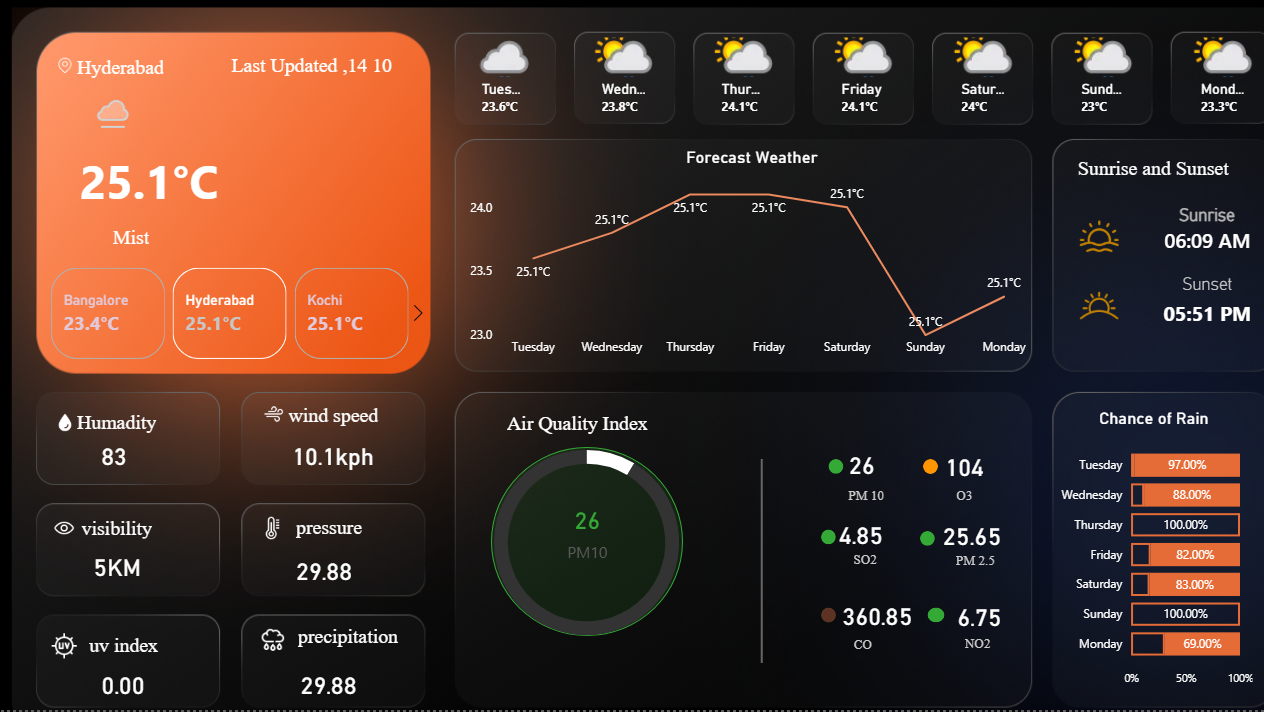

What the dashboard file says about the page in this screenshot:
{"tool":"powerbi","page":{"name":"Page 1","canvas":[1280,720],"ordinal":0},"visuals":[{"type":"shape","box":[496.7,454.3,193.8,190.8],"z":0},{"type":"donutChart","fields":{"Y":["Sum(Current.current.air_quality.pm10)","Measure.left_value_pm10"]},"box":[442.1,428.5,301.3,243.8],"z":1000},{"type":"advancedSlicerVisual","fields":{"Values":["Current.location.name"]},"box":[27.3,268,411.9,103],"z":2000},{"type":"shape","box":[40.9,151.4,221.1,65.1],"z":3000},{"type":"shape","box":[40.9,45.4,163.5,51.5],"z":4000},{"type":"shape","box":[51.5,231.7,163.5,21.2],"z":5000},{"type":"image","box":[40.9,56,51.5,25.7],"z":6000},{"type":"shape","box":[233.2,56,163.5,25.7],"z":7000},{"type":"cardVisual","fields":{"Data":["Min(Current.current.condition.icon)"]},"box":[30.3,69.7,124.2,90.9],"z":8000},{"type":"image","box":[45.4,519.4,40.9,33.3],"z":9000},{"type":"shape","box":[83.3,525.4,77.2,21.2],"z":10000},{"type":"image","box":[50,414.9,33.3,28.8],"z":11000},{"type":"shape","box":[78.7,414.9,87.8,28.8],"z":12000},{"type":"image","box":[262,401.3,30.3,39.4],"z":13000},{"type":"shape","box":[292.2,401.3,122.7,42.4],"z":14000},{"type":"shape","box":[292.2,511.8,74.2,48.5],"z":15000},{"type":"image","box":[249.8,519.4,53,33.3],"z":16000},{"type":"shape","box":[277.1,622.3,125.7,45.4],"z":17000},{"type":"shape","box":[78.7,622.3,81.8,63.6],"z":18000},{"type":"image","box":[249.8,629.9,53,37.9],"z":19000},{"type":"image","box":[34.8,636,62.1,37.9],"z":20000},{"type":"card","fields":{"Values":["Sum(Current.current.humidity)"]},"box":[40.9,387.6,149.9,149.9],"z":21000},{"type":"card","fields":{"Values":["Measure.wind_speed"]},"box":[262,387.6,149.9,149.9],"z":22000},{"type":"card","fields":{"Values":["Measure.KM"]},"box":[43.9,499.7,149.9,149.9],"z":23000},{"type":"card","fields":{"Values":["Sum(Current.current.pressure_in)"]},"box":[252.9,504.2,149.9,149.9],"z":24000},{"type":"card","fields":{"Values":["Sum(Current.current.uv)"]},"box":[50,667.8,149.9,51.5],"z":25000},{"type":"card","fields":{"Values":["Sum(Current.current.pressure_in)"]},"box":[262,667.8,140.8,51.5],"z":26000},{"type":"advancedSlicerVisual","fields":{"Values":["Forcast_day.Day_Name"]},"box":[469.4,34.8,810.1,103],"z":27000},{"type":"lineChart","title":"Forecast Weather","fields":{"Category":["Forcast_day.Day_Name"],"Y":["Sum(Forcast_day.forecast.forecastday.day.avgtemp_c)"]},"box":[469.4,151.4,581.5,219.6],"z":28000},{"type":"shape","box":[1050.9,137.8,228.6,71.2],"z":29000},{"type":"shape","box":[1159.9,222.6,119.6,45.4],"z":30000},{"type":"shape","box":[1159.9,296.8,119.6,45.4],"z":31000},{"type":"shape","box":[1159.9,196.8,119.6,45.4],"z":32000},{"type":"shape","box":[1159.9,268,119.6,42.4],"z":33000},{"type":"image","box":[1085.7,216.5,50,50],"z":34000},{"type":"image","box":[1070.5,280.1,80.3,62.1],"z":35000},{"type":"hundredPercentStackedBarChart","title":"Chance of Rain","fields":{"Y":["Current.Left_value_rain","Sum(Forcast_day.forecast.forecastday.day.daily_chance_of_rain)"],"Category":["Forcast_day.Day_Name"]},"box":[1061.5,414.9,209,289.2],"z":36000},{"type":"shape","box":[469.4,395.2,228.6,71.2],"z":37000},{"type":"card","fields":{"Values":["Sum(Current.current.air_quality.o3)"]},"box":[949.4,449.7,50,48.5],"z":38000},{"type":"shape","box":[835.8,481.5,57.5,43.9],"z":39000},{"type":"card","fields":{"Values":["Sum(Current.current.air_quality.pm10)"]},"box":[844.9,454.3,51.5,34.8],"z":40000},{"type":"card","fields":{"Values":["Sum(Current.current.air_quality.so2)"]},"box":[837.4,517.9,65.1,50],"z":41000},{"type":"card","fields":{"Values":["Sum(Current.current.air_quality.co)"]},"box":[837.4,598.1,98.4,51.5],"z":42000},{"type":"card","fields":{"Values":["Sum(Current.current.air_quality.pm2_5)"]},"box":[937.3,511.8,89.3,63.6],"z":43000},{"type":"card","fields":{"Values":["Sum(Current.current.air_quality.no2)"]},"box":[952.4,598.1,74.2,54.5],"z":44000},{"type":"shape","box":[941.8,480,40.9,45.4],"z":45000},{"type":"shape","box":[855.7,554.3,30.7,27.9],"z":46000},{"type":"shape","box":[960,551.2,45.4,34.8],"z":47000},{"type":"shape","box":[835.8,628.4,45.4,51.5],"z":48000},{"type":"shape","box":[963,631.4,37.9,43.9],"z":49000},{"type":"shape","box":[837.4,466.4,15,15],"z":50000},{"type":"shape","box":[829.8,616.3,15.1,15.1],"z":51000},{"type":"shape","box":[830,537.9,15,15],"z":52000},{"type":"shape","box":[930,539.3,15,15],"z":53000},{"type":"shape","box":[932.8,466.4,15.1,15.1],"z":54000},{"type":"shape","box":[937.9,616.4,17.1,15],"z":55000},{"type":"shape","box":[695,466.4,149.9,205.9],"z":56000},{"type":"card","fields":{"Values":["Sum(Current.current.air_quality.pm10)"]},"box":[546.6,493.6,93.9,89.3],"z":57000}]}

Visuals, with their boxes in screenshot pixels (x1, y1, x2, y2), scaled from the page's 1280x720 canvas onto the 1264x712 screenshot:
shape: l=490, t=449, r=682, b=638
donutChart - Sum(Current.current.air_quality.pm10) x Measure.left_value_pm10: l=437, t=424, r=734, b=665
advancedSlicerVisual - Current.location.name: l=27, t=265, r=434, b=367
shape: l=40, t=150, r=259, b=214
shape: l=40, t=45, r=202, b=96
shape: l=51, t=229, r=212, b=250
image: l=40, t=55, r=91, b=81
shape: l=230, t=55, r=392, b=81
cardVisual - Min(Current.current.condition.icon): l=30, t=69, r=153, b=159
image: l=45, t=514, r=85, b=547
shape: l=82, t=520, r=158, b=541
image: l=49, t=410, r=82, b=439
shape: l=78, t=410, r=164, b=439
image: l=259, t=397, r=289, b=436
shape: l=289, t=397, r=410, b=439
shape: l=289, t=506, r=362, b=554
image: l=247, t=514, r=299, b=547
shape: l=274, t=615, r=398, b=660
shape: l=78, t=615, r=158, b=678
image: l=247, t=623, r=299, b=660
image: l=34, t=629, r=96, b=666
card - Sum(Current.current.humidity): l=40, t=383, r=188, b=532
card - Measure.wind_speed: l=259, t=383, r=407, b=532
card - Measure.KM: l=43, t=494, r=191, b=642
card - Sum(Current.current.pressure_in): l=250, t=499, r=398, b=647
card - Sum(Current.current.uv): l=49, t=660, r=197, b=711
card - Sum(Current.current.pressure_in): l=259, t=660, r=398, b=711
advancedSlicerVisual - Forcast_day.Day_Name: l=464, t=34, r=1263, b=136
"Forecast Weather" lineChart: l=464, t=150, r=1038, b=367
shape: l=1038, t=136, r=1263, b=207
shape: l=1145, t=220, r=1263, b=265
shape: l=1145, t=294, r=1263, b=338
shape: l=1145, t=195, r=1263, b=240
shape: l=1145, t=265, r=1263, b=307
image: l=1072, t=214, r=1122, b=264
image: l=1057, t=277, r=1136, b=338
"Chance of Rain" hundredPercentStackedBarChart: l=1048, t=410, r=1255, b=696
shape: l=464, t=391, r=689, b=461
card - Sum(Current.current.air_quality.o3): l=938, t=445, r=987, b=493
shape: l=825, t=476, r=882, b=520
card - Sum(Current.current.air_quality.pm10): l=834, t=449, r=885, b=484
card - Sum(Current.current.air_quality.so2): l=827, t=512, r=891, b=562
card - Sum(Current.current.air_quality.co): l=827, t=591, r=924, b=642
card - Sum(Current.current.air_quality.pm2_5): l=926, t=506, r=1014, b=569
card - Sum(Current.current.air_quality.no2): l=940, t=591, r=1014, b=645
shape: l=930, t=475, r=970, b=520
shape: l=845, t=548, r=875, b=576
shape: l=948, t=545, r=993, b=579
shape: l=825, t=621, r=870, b=672
shape: l=951, t=624, r=988, b=668
shape: l=827, t=461, r=842, b=476
shape: l=819, t=609, r=834, b=624
shape: l=820, t=532, r=834, b=547
shape: l=918, t=533, r=933, b=548
shape: l=921, t=461, r=936, b=476
shape: l=926, t=610, r=943, b=624
shape: l=686, t=461, r=834, b=665
card - Sum(Current.current.air_quality.pm10): l=540, t=488, r=632, b=576
